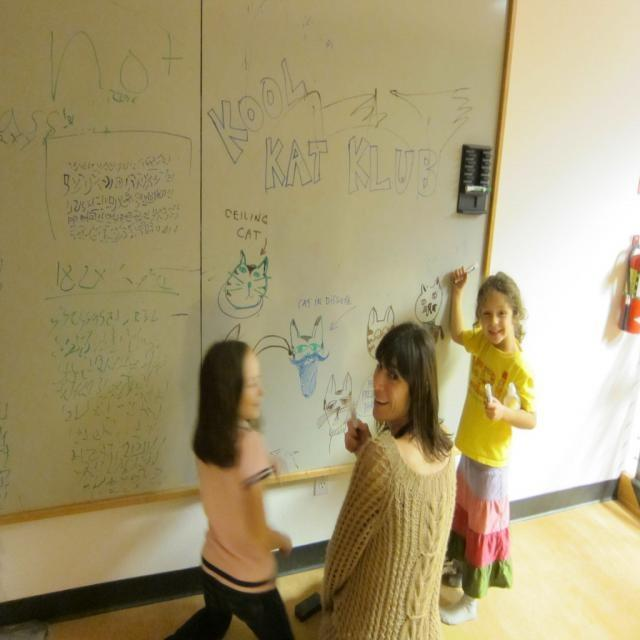Whiteboard: (0, 0, 516, 526)
